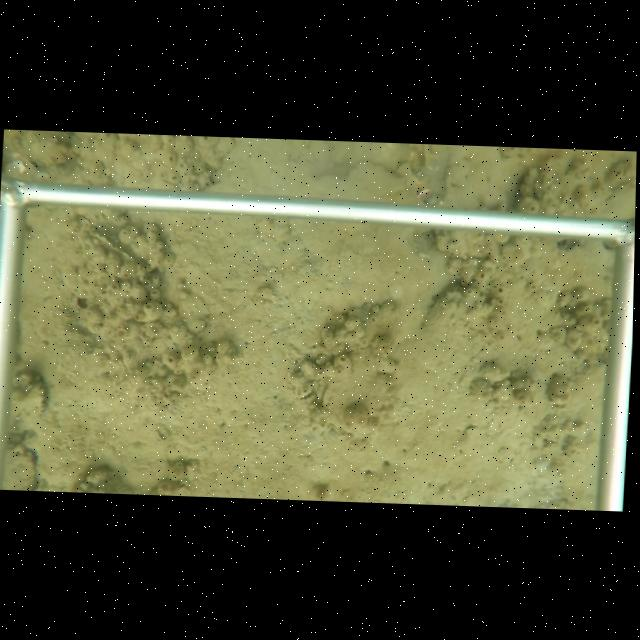Oyster-Closed: (71, 212, 145, 267), (12, 367, 51, 421)
Oyster-Indeterminate: (316, 349, 397, 437), (342, 159, 408, 195), (3, 441, 37, 490)
